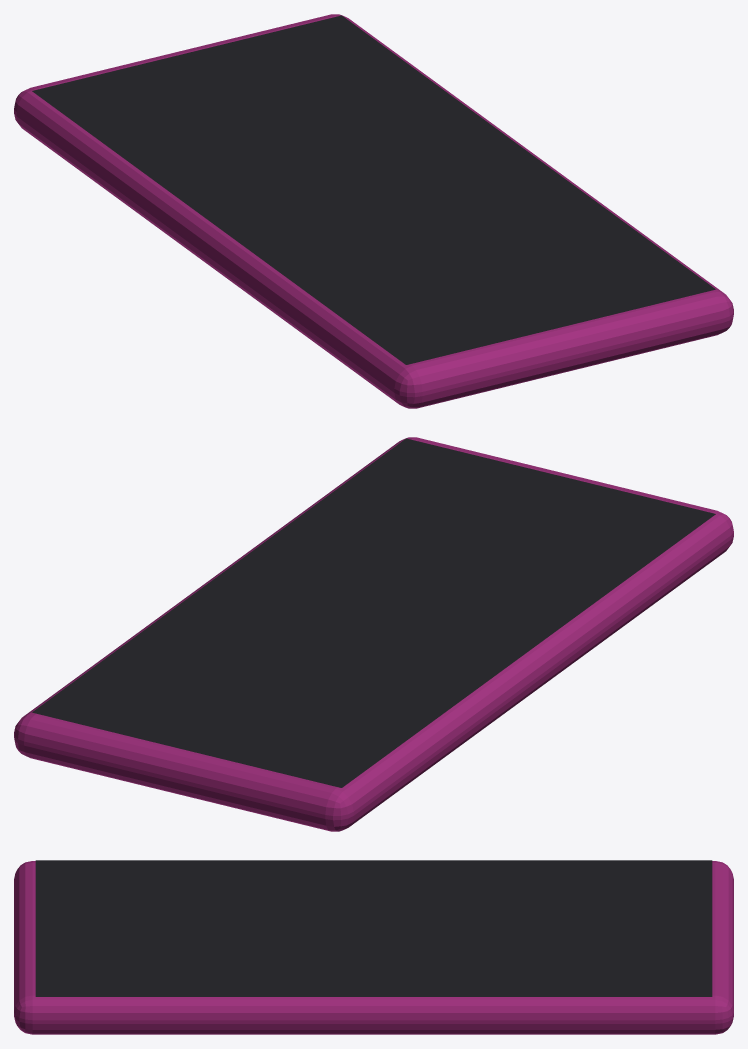
Rendered from xiaomi-redmi-note-model-77-mid-range-2022.glb.
The picture shows the model from 3 angles, top to bottom: view 1: azimuth 30°, elevation 25°; view 2: azimuth 150°, elevation 25°; view 3: azimuth 270°, elevation 25°; orthographic projection. The views are drawn at different scales.
Parts seen in each view (by area): view 1: Phone_Screen, Phone_Body; view 2: Phone_Screen, Phone_Body; view 3: Phone_Screen, Phone_Body.
Boxes of the visible parts, left/top/right/bottom form: Phone_Screen: left=32, top=15, right=715, bottom=364; Phone_Body: left=14, top=14, right=733, bottom=408; Phone_Screen: left=32, top=438, right=715, bottom=787; Phone_Body: left=14, top=437, right=733, bottom=831; Phone_Screen: left=35, top=860, right=712, bottom=996; Phone_Body: left=14, top=861, right=733, bottom=1034.
Bounding box in the file's own units: 0.0799 × 0.0095 × 0.1636.
